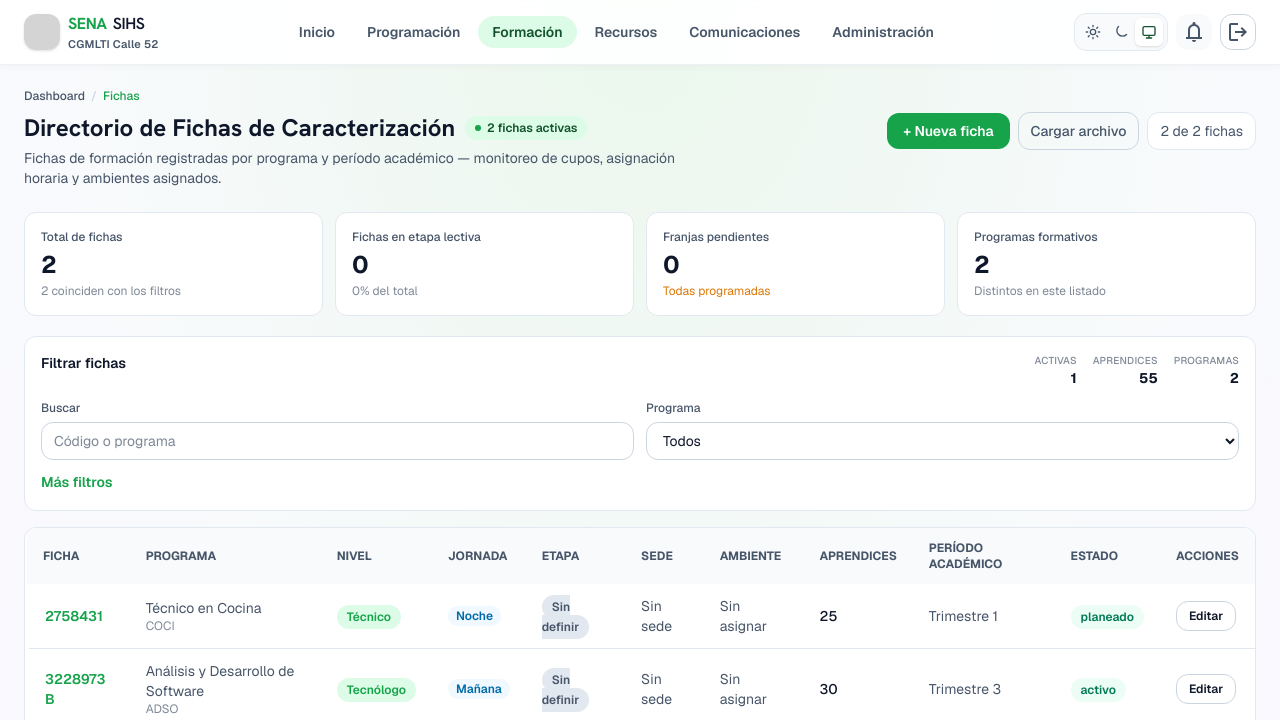
Test: Fichas › botón "Cerrar" del drawer oculta el panel de detalle
Click the button "3228973 B" at (79, 689), box [45, 669, 114, 709]
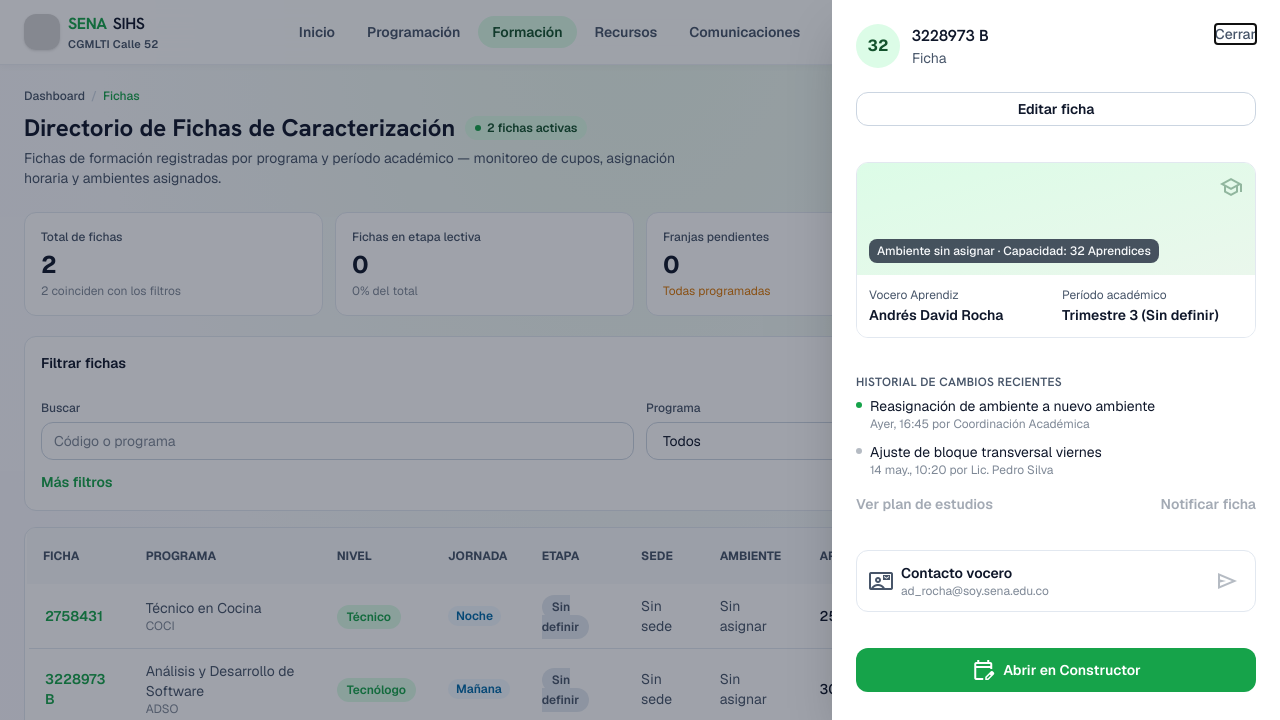
Result: the dialog is shown at [832, 0, 1279, 719]
Click the button "Cerrar" at (1235, 34), box [1215, 24, 1256, 44]
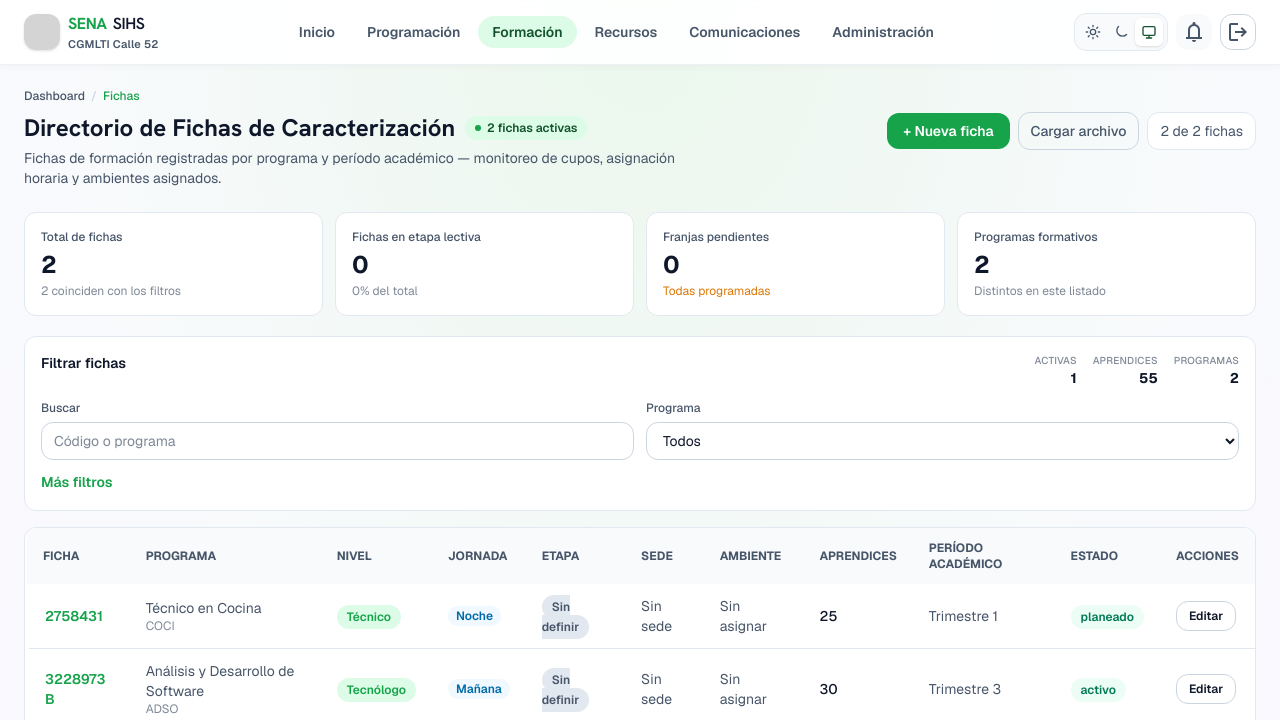
Result: the dialog is gone
